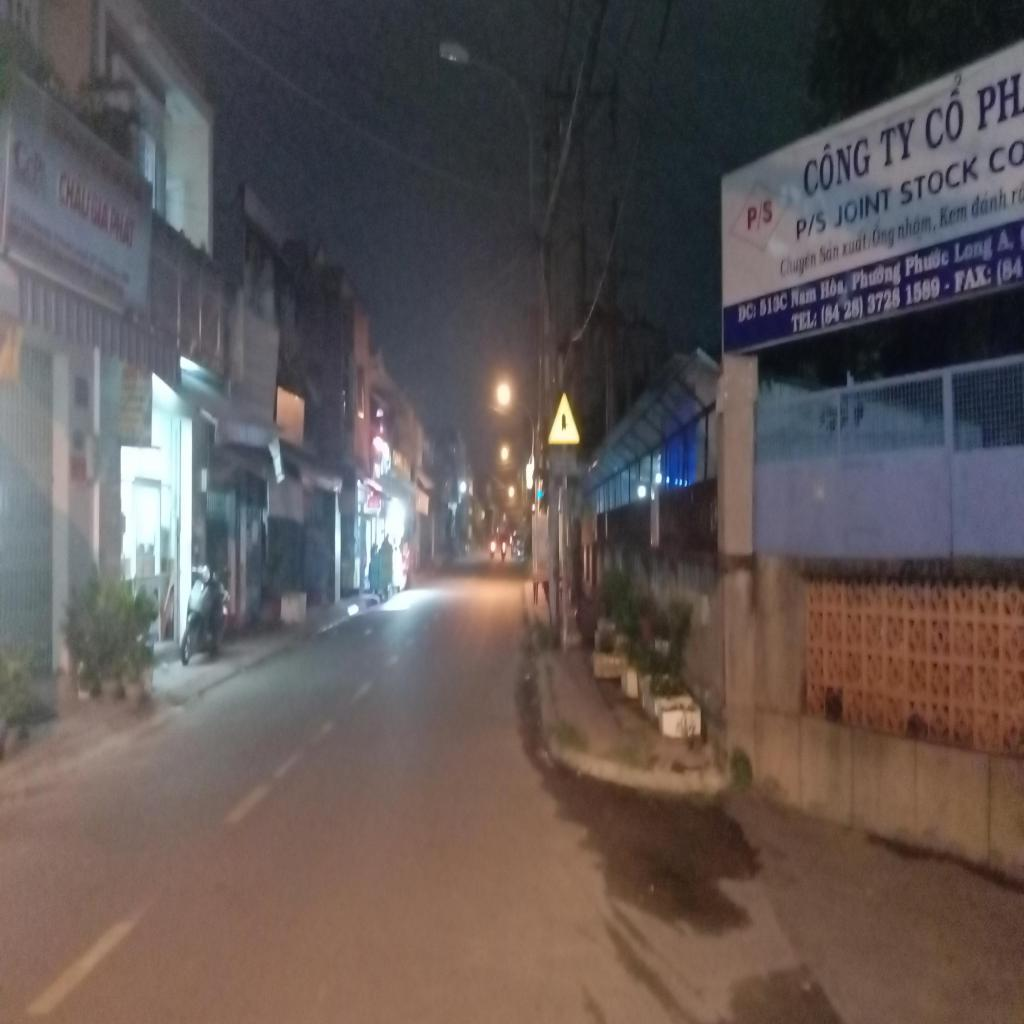giao_nhau_voi_duong_khong_uu_tien: (548, 390, 581, 443)
